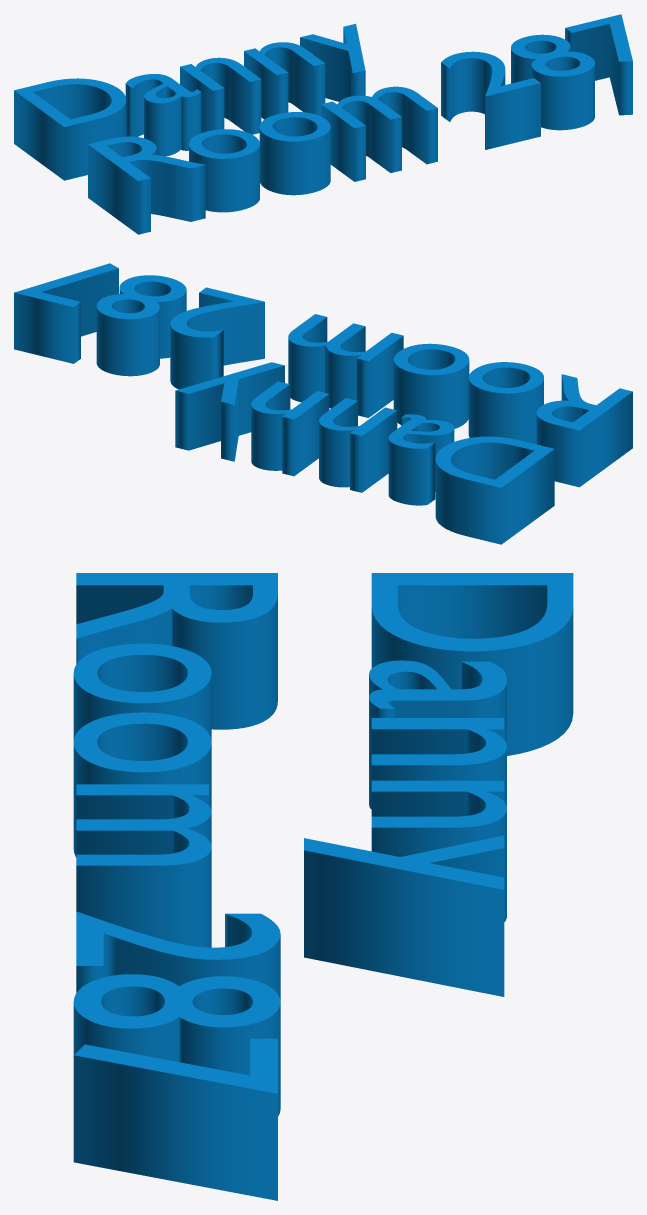
The model's file is danny-287.gltf.
3 views of the same model, one above another, from view 1: azimuth 30°, elevation 25°; view 2: azimuth 150°, elevation 25°; view 3: azimuth 270°, elevation 25° (orthographic). The views are drawn at different scales.
Parts seen in each view (by area): view 1: Text; view 2: Text; view 3: Text.
Boxes of the visible parts, x1=… form: Text: x1=14, y1=14, x2=632, y2=234; Text: x1=14, y1=263, x2=632, y2=544; Text: x1=73, y1=573, x2=573, y2=1200.
Size of the model in its own units: 4.17 by 0.4 by 1.69.
